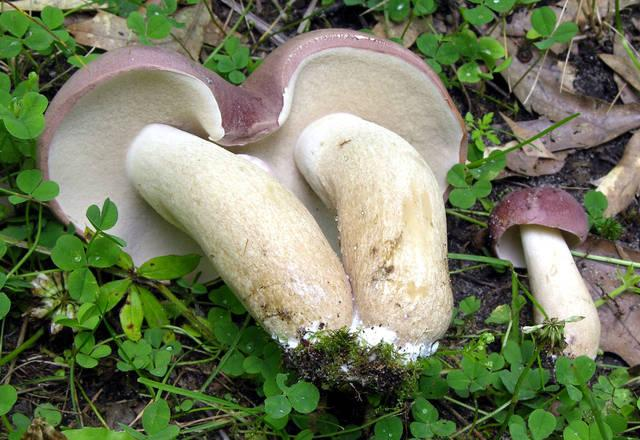Non-edible Mushroom: (23, 23, 480, 389), (487, 184, 602, 367)
